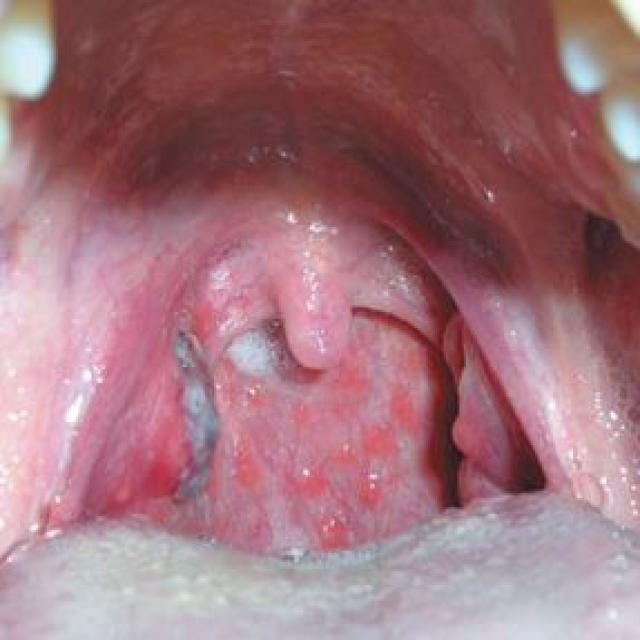pharyngitis: (408, 300, 591, 517), (80, 336, 241, 532)
